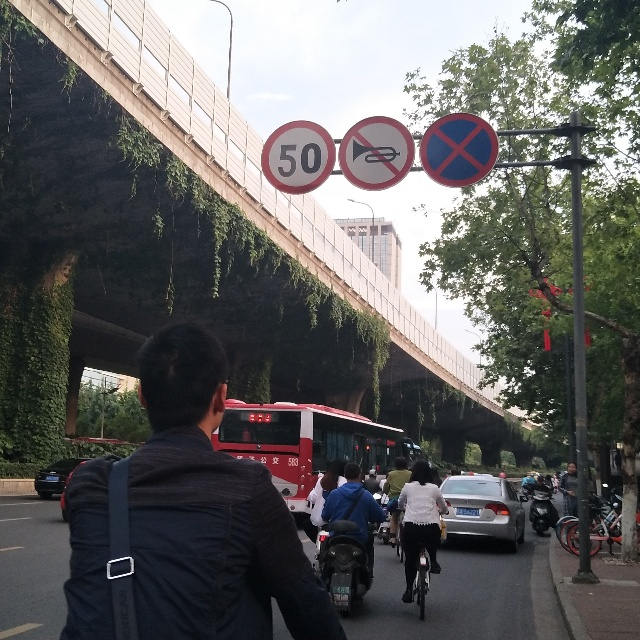nohonk: (342, 119, 406, 196)
stop: (421, 118, 493, 186)
